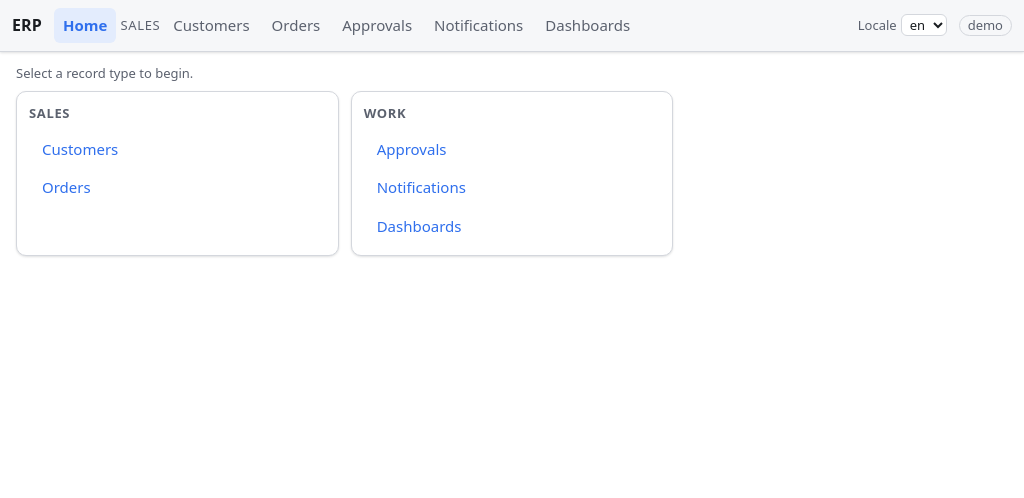
it: RuntimeShell failure surfaces › the list's create action — openPage('customerForm'), the golden journey's crash — renders the form
Click the button "Customers" in the row of "ERP".
click(211, 25)  # box [164,8,259,42]
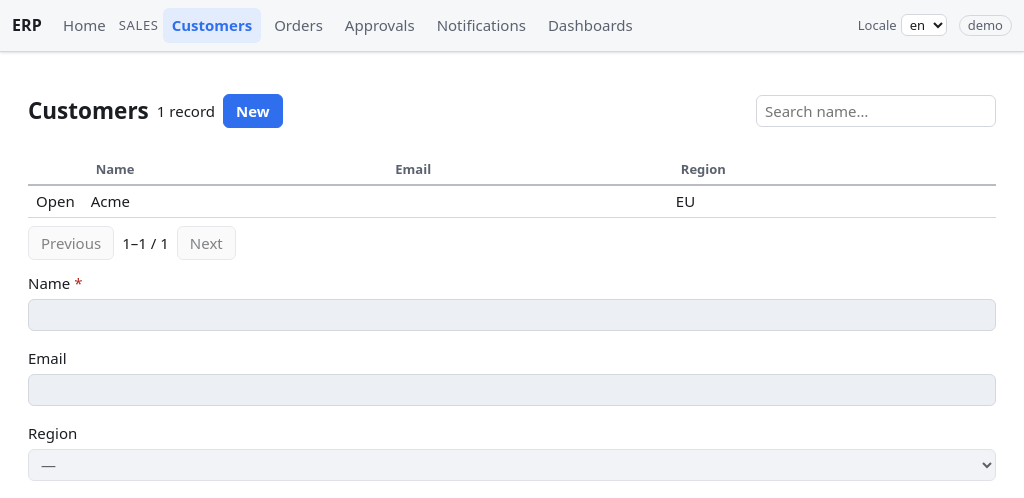
Expected: the text "1 record" is shown, [157,100,215,122]
Click the button "New".
click(253, 111)  # box [223,94,283,128]
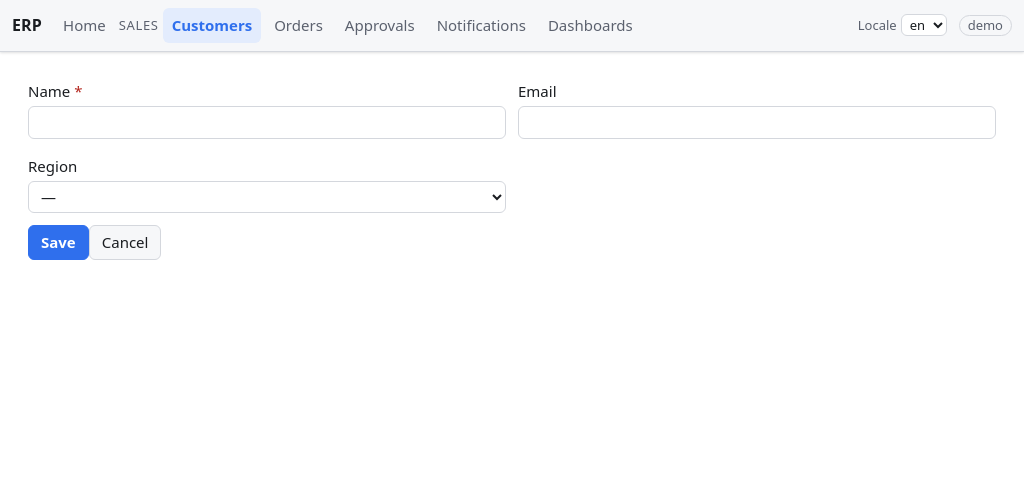
Expected: the field labelled "Name *" is shown, [28,106,506,138]
Expected: the button "Save" is shown, [28,225,89,260]
